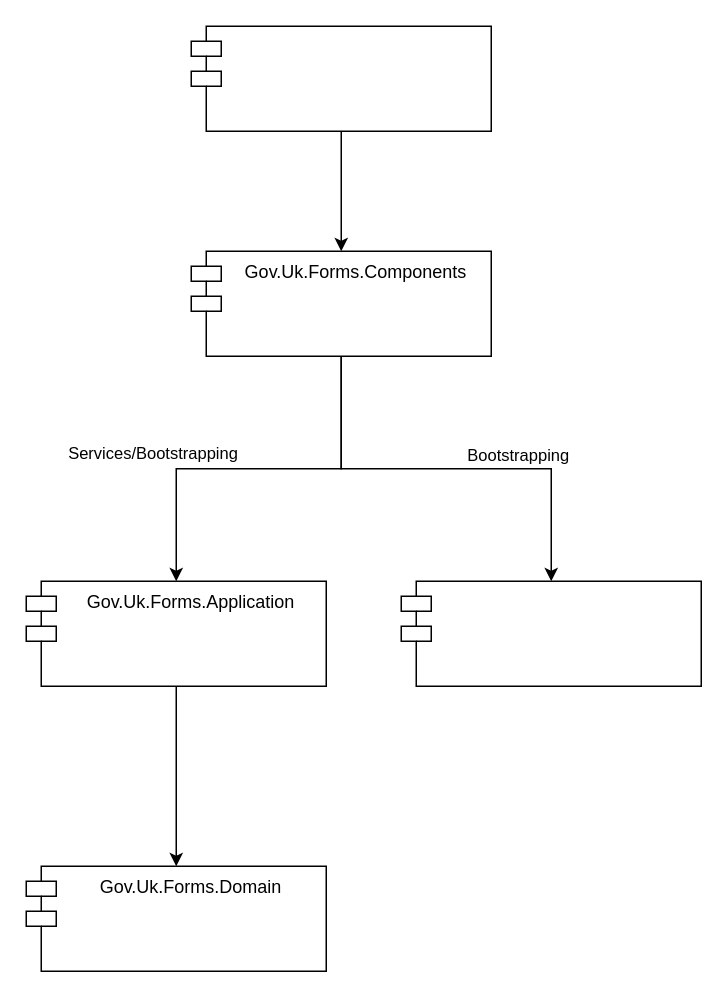
The diagram is 728 pixels wide and 998 high, and some of its shapes have lost their labels. The centre of each missing label's shape, as x and y in pixels:
"Gov.Uk.Forms.Infrastructure" goes at (x=550, y=633).
"Gov.Uk.Forms.WebApp" goes at (x=340, y=78).
